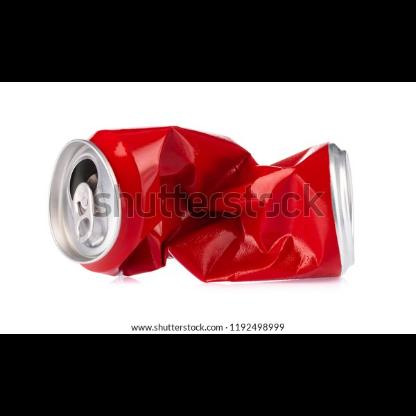Dent_Can: (120, 141, 352, 282)
Lid_Open: (58, 164, 108, 262)
Tin_Can: (40, 126, 364, 292)
